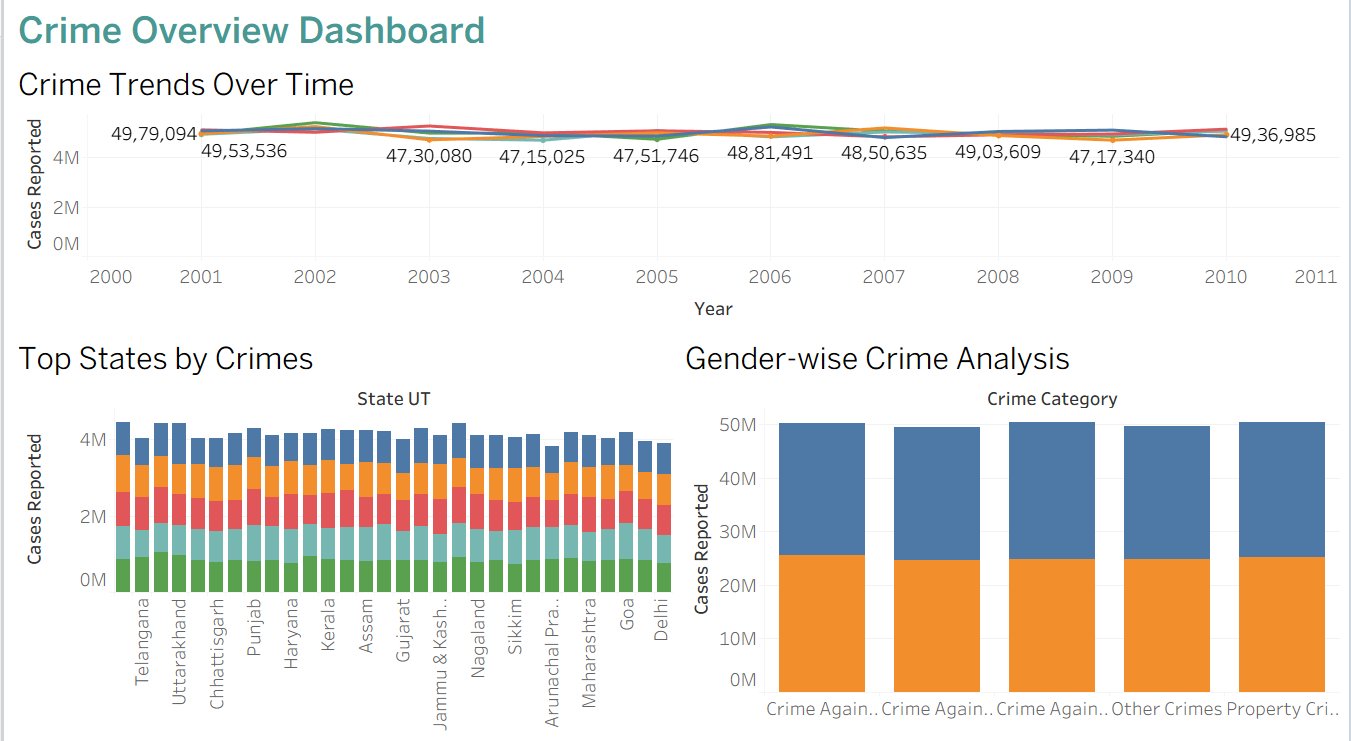

Layout of this report page (visuals, bound fields, positions):
{"tool":"tableau","page":{"name":"Dashboard 1","canvas":[1000,1000],"units":"permille","ordinal":0},"visuals":[{"type":"title","box":[5.9,10.7,988.1,69.6]},{"type":"worksheet","title":"Sheet 1","mark":"Line","rows":["Cases_Reported"],"cols":["Year"],"box":[5.9,80.3,988.1,367.1]},{"type":"worksheet","title":"Sheet 2","mark":"Automatic","rows":["Cases_Reported"],"cols":["State_UT"],"box":[5.9,447.4,494,541.9]},{"type":"worksheet","title":"Sheet 3","mark":"Bar","rows":["Cases_Reported"],"cols":["Crime_Category"],"box":[499.9,447.4,494.2,541.9]}]}

Visuals, with their boxes on the dashboard's canvas, which has no fixed pixel size, in thousandths of its width and height (x1, y1, x2, y2). These are canvas units, not pixel positions in the 1351x741 screenshot, which may show the page scaled, cropped or inside an application window:
title: bbox(6, 11, 994, 80)
"Sheet 1" worksheet (Line marks): bbox(6, 80, 994, 447)
"Sheet 2" worksheet: bbox(6, 447, 500, 989)
"Sheet 3" worksheet (Bar marks): bbox(500, 447, 994, 989)
